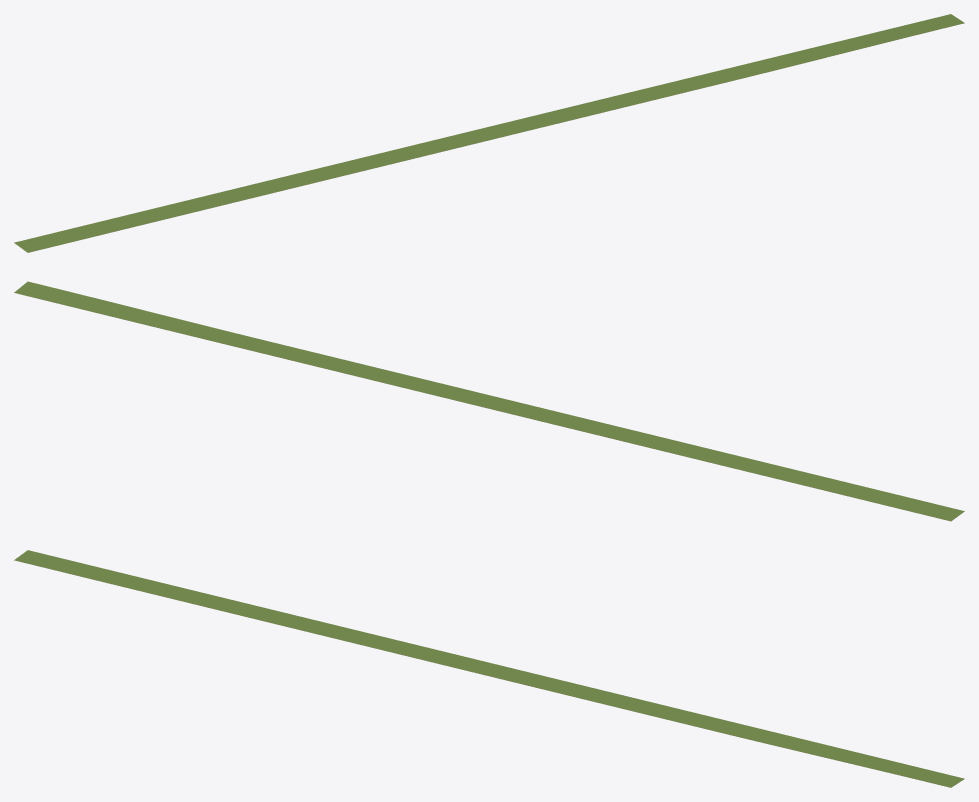
File: region_2_-2.glb
3 renders of one model, top to bottom at view 1: azimuth 30°, elevation 25°; view 2: azimuth 150°, elevation 25°; view 3: azimuth 330°, elevation 25°, orthographic.
Parts seen in each view (by area): view 1: OD_Meadow.021; view 2: OD_Meadow.021; view 3: OD_Meadow.021.
Part boxes in pixels (x1,y1,x2,y2): OD_Meadow.021: (14,14,964,252); OD_Meadow.021: (14,281,964,521); OD_Meadow.021: (14,550,964,787).
Bounding box in the file's own units: 32.35 × 0.0417 × 0.8294.
